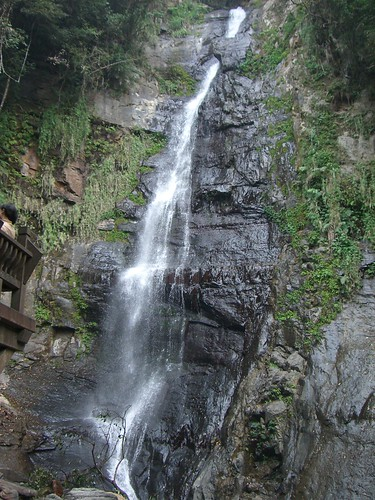wufengciWaterfall: (68, 7, 270, 480)
